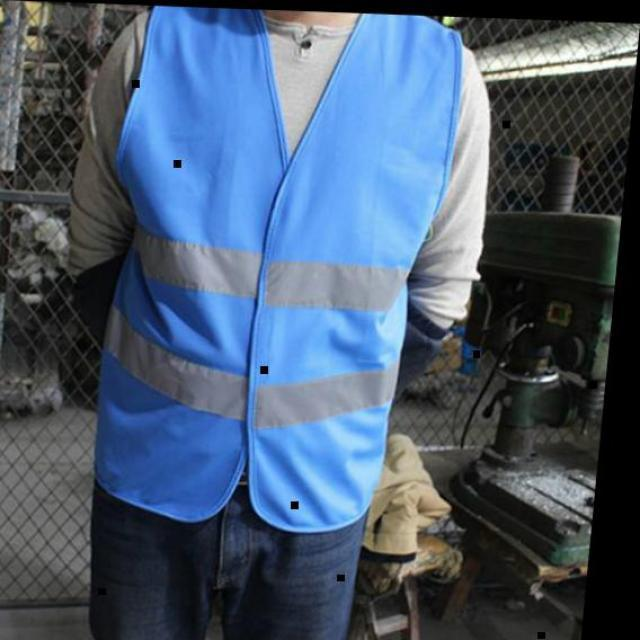safety_helmet: (78, 14, 494, 535)
